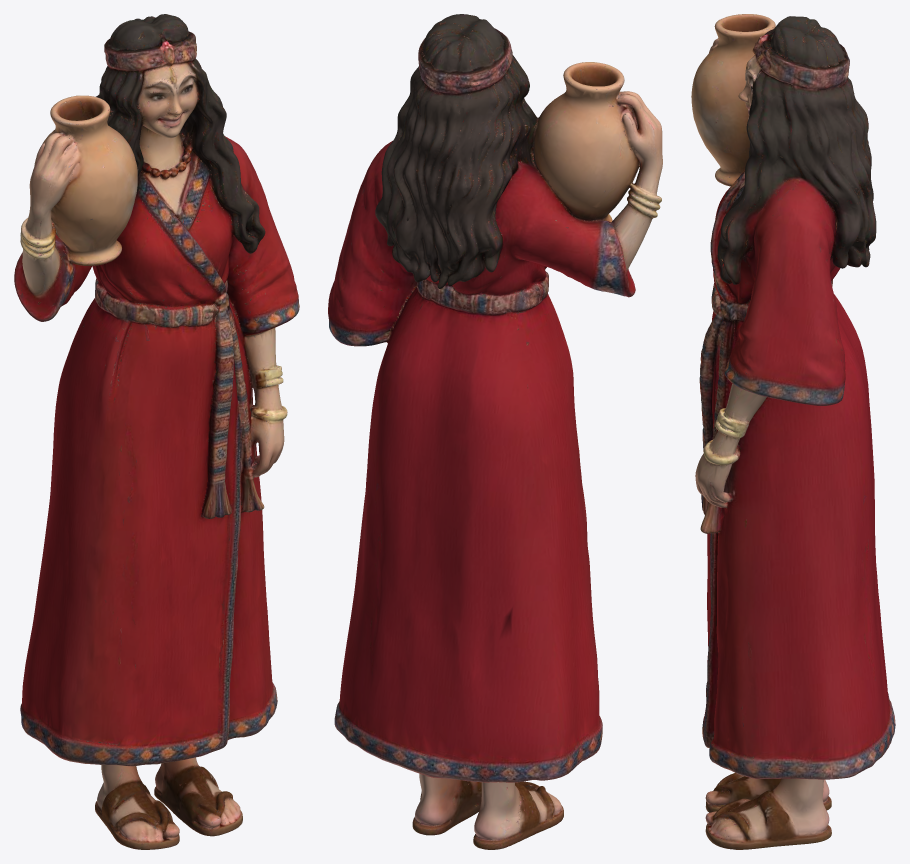
Rendered from rivkah_viseme.glb.
3 renders of one model, left to right at view 1: azimuth 30°, elevation 25°; view 2: azimuth 150°, elevation 25°; view 3: azimuth 270°, elevation 25°, orthographic. The views are drawn at different scales.
Bounding box in the file's own units: 0.7627 × 2 × 0.4633.
Materials: 1 (1 with a texture image).
